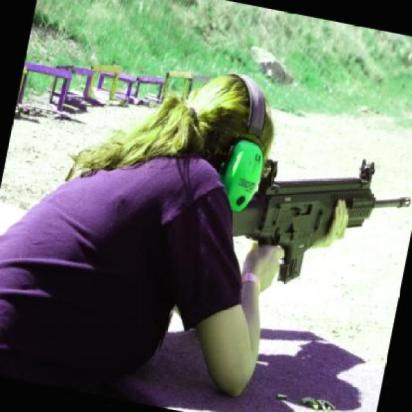Gun: (188, 108, 412, 313)
